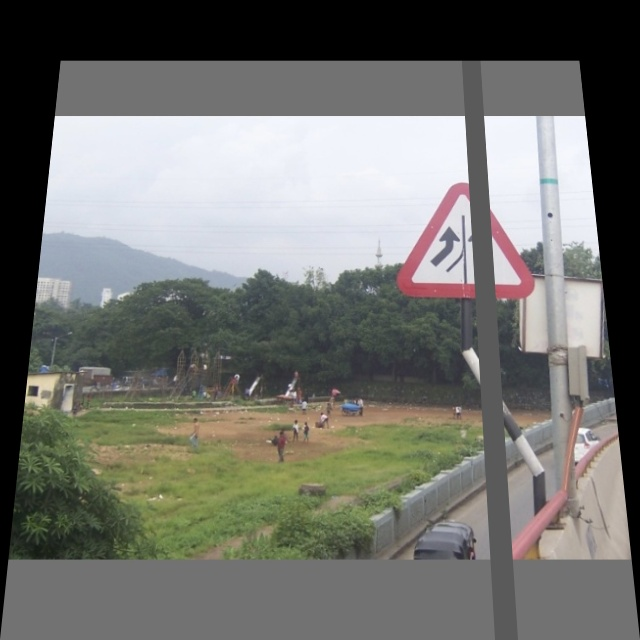Merge_Traffic_Ahead: (398, 180, 538, 304)
